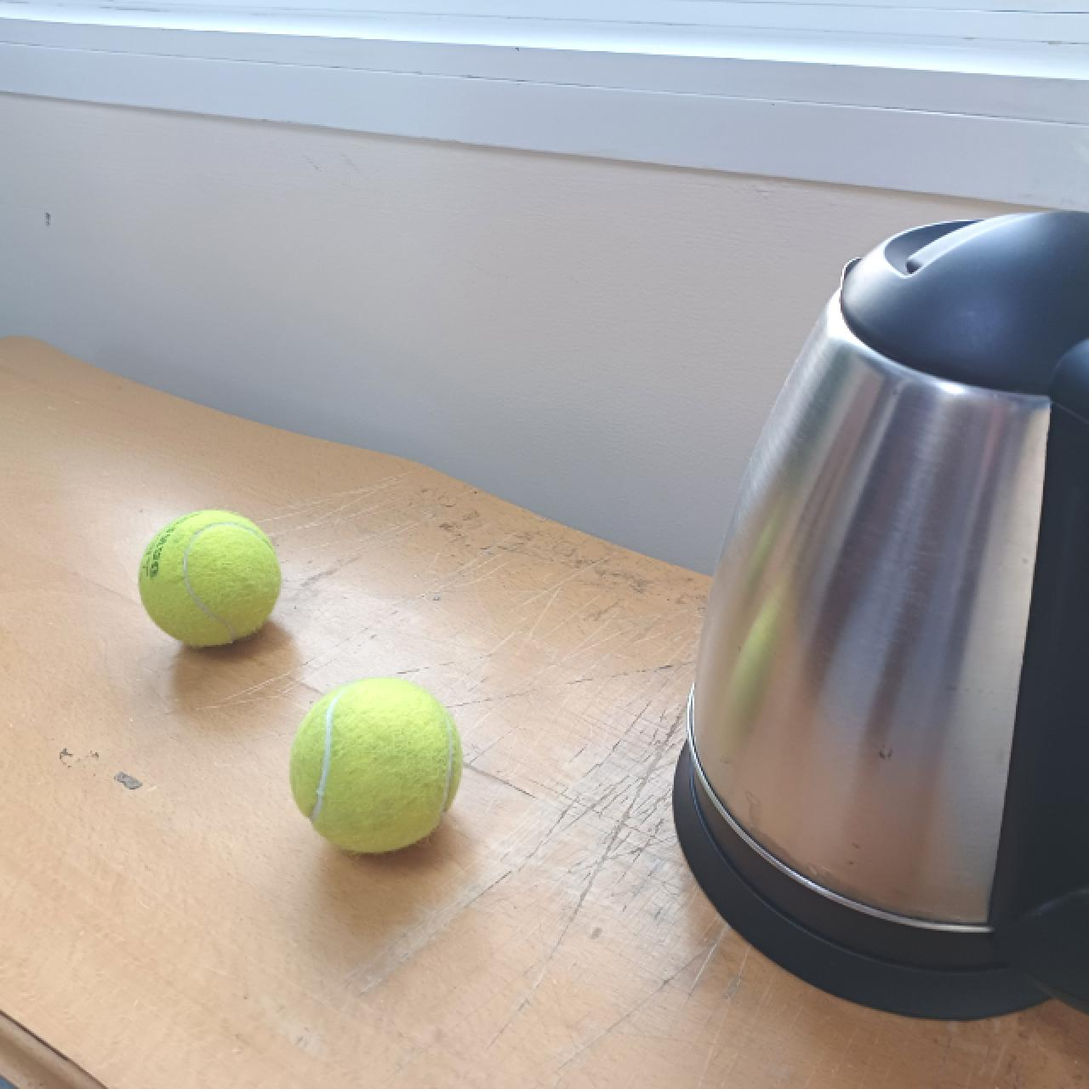tennis-ball: (291, 673, 467, 855), (135, 506, 286, 651)
